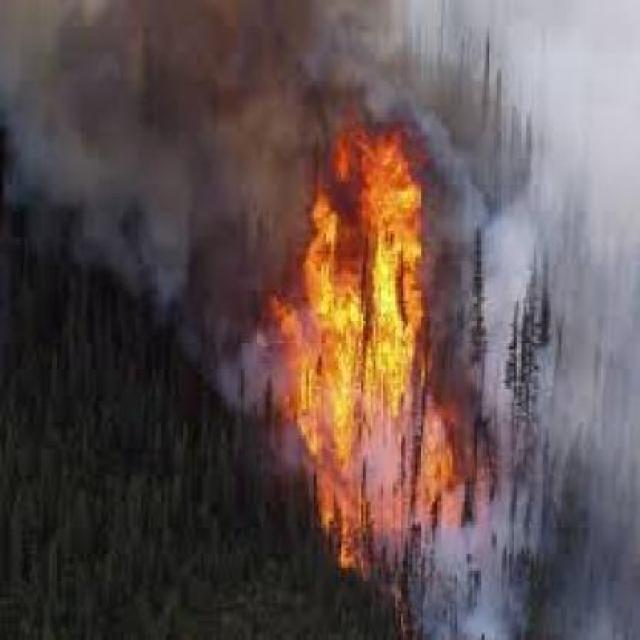Fire: (268, 126, 475, 558)
Smoke: (453, 0, 640, 640), (0, 3, 266, 347)
